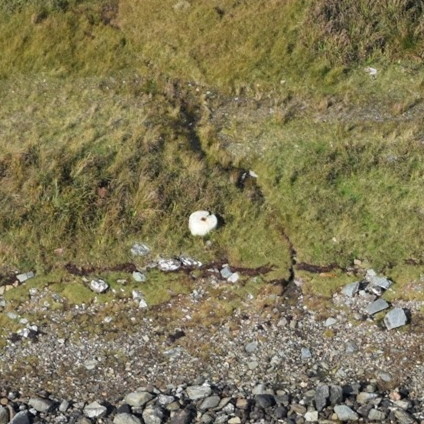white_in_green: (161, 183, 245, 258)
